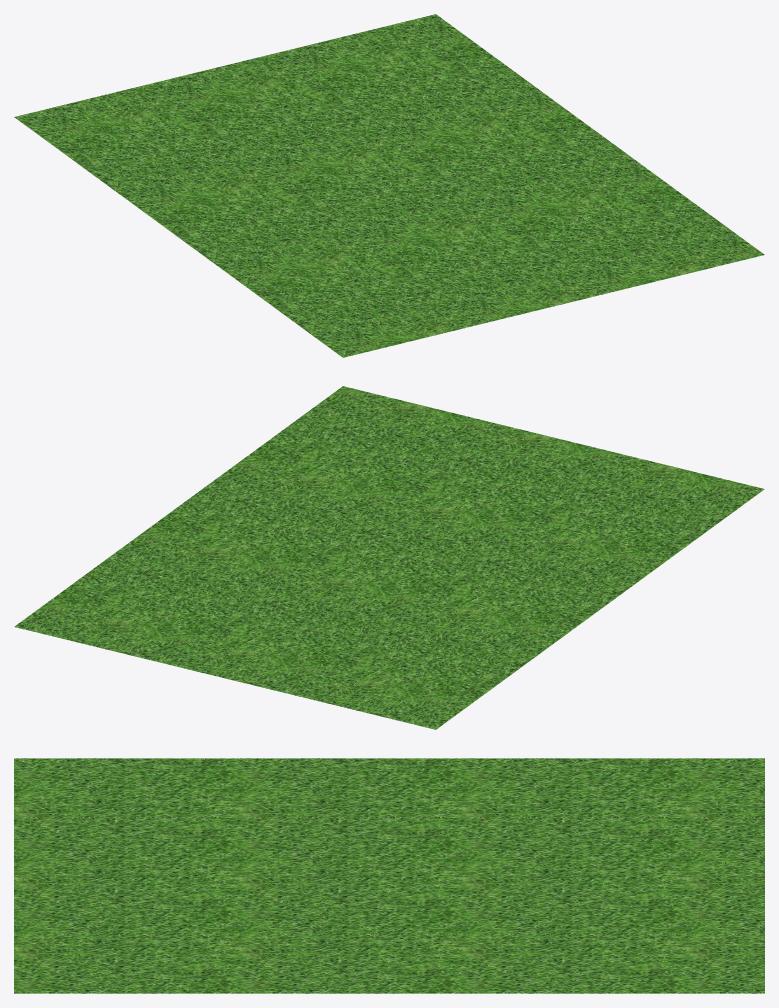
The model's file is glass.obj.
3 renders of one model, top to bottom at view 1: azimuth 30°, elevation 25°; view 2: azimuth 150°, elevation 25°; view 3: azimuth 270°, elevation 25°, orthographic. The views are drawn at different scales.
Visible parts, largest first — view 1: Plane001; view 2: Plane001; view 3: Plane001.
Boxes of the visible parts, x1=… form: Plane001: x1=14, y1=14, x2=764, y2=357; Plane001: x1=14, y1=386, x2=764, y2=729; Plane001: x1=14, y1=758, x2=764, y2=993.
Bounding box in the file's own units: 42.75 × 0 × 57.73.
